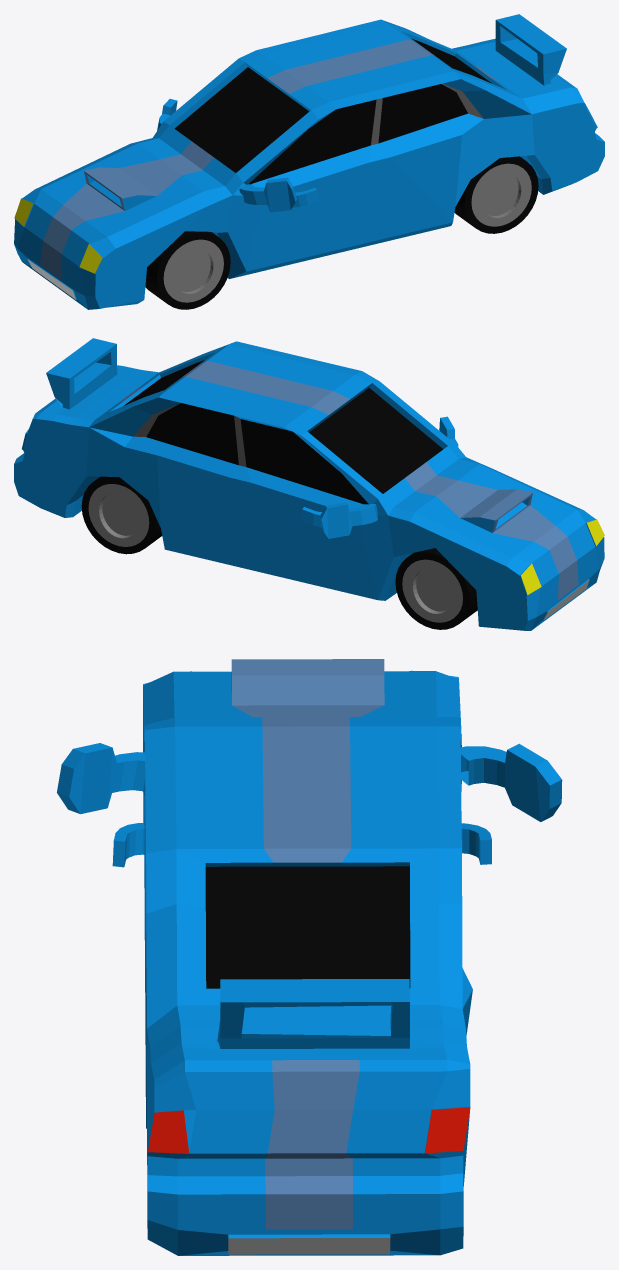
Rendered from PlayerCar4.fbx.
3 renders of one model, top to bottom at view 1: azimuth 30°, elevation 25°; view 2: azimuth 150°, elevation 25°; view 3: azimuth 270°, elevation 25°, orthographic. The views are drawn at different scales.
Parts seen in each view (by area): view 1: Cube.003; view 2: Cube.003; view 3: Cube.003.
Boxes of the visible parts, left/top/right/bottom form: Cube.003: left=14, top=14, right=604, bottom=309; Cube.003: left=14, top=338, right=604, bottom=630; Cube.003: left=57, top=659, right=562, bottom=1255.
Size of the model in its own units: 1446 by 451 by 608.
